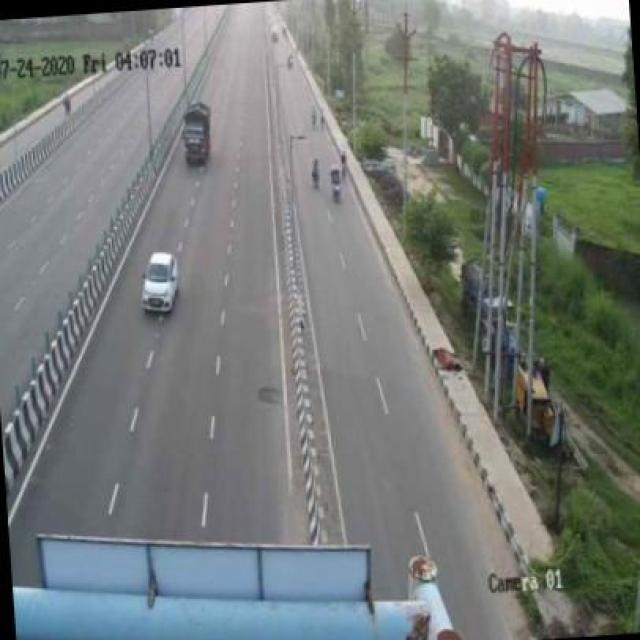car: (132, 240, 188, 324)
